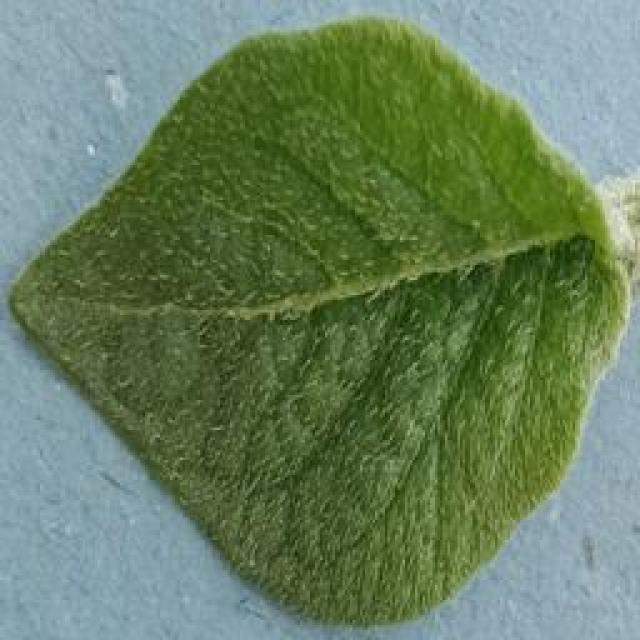Potato_Healthy: (5, 10, 632, 635)
